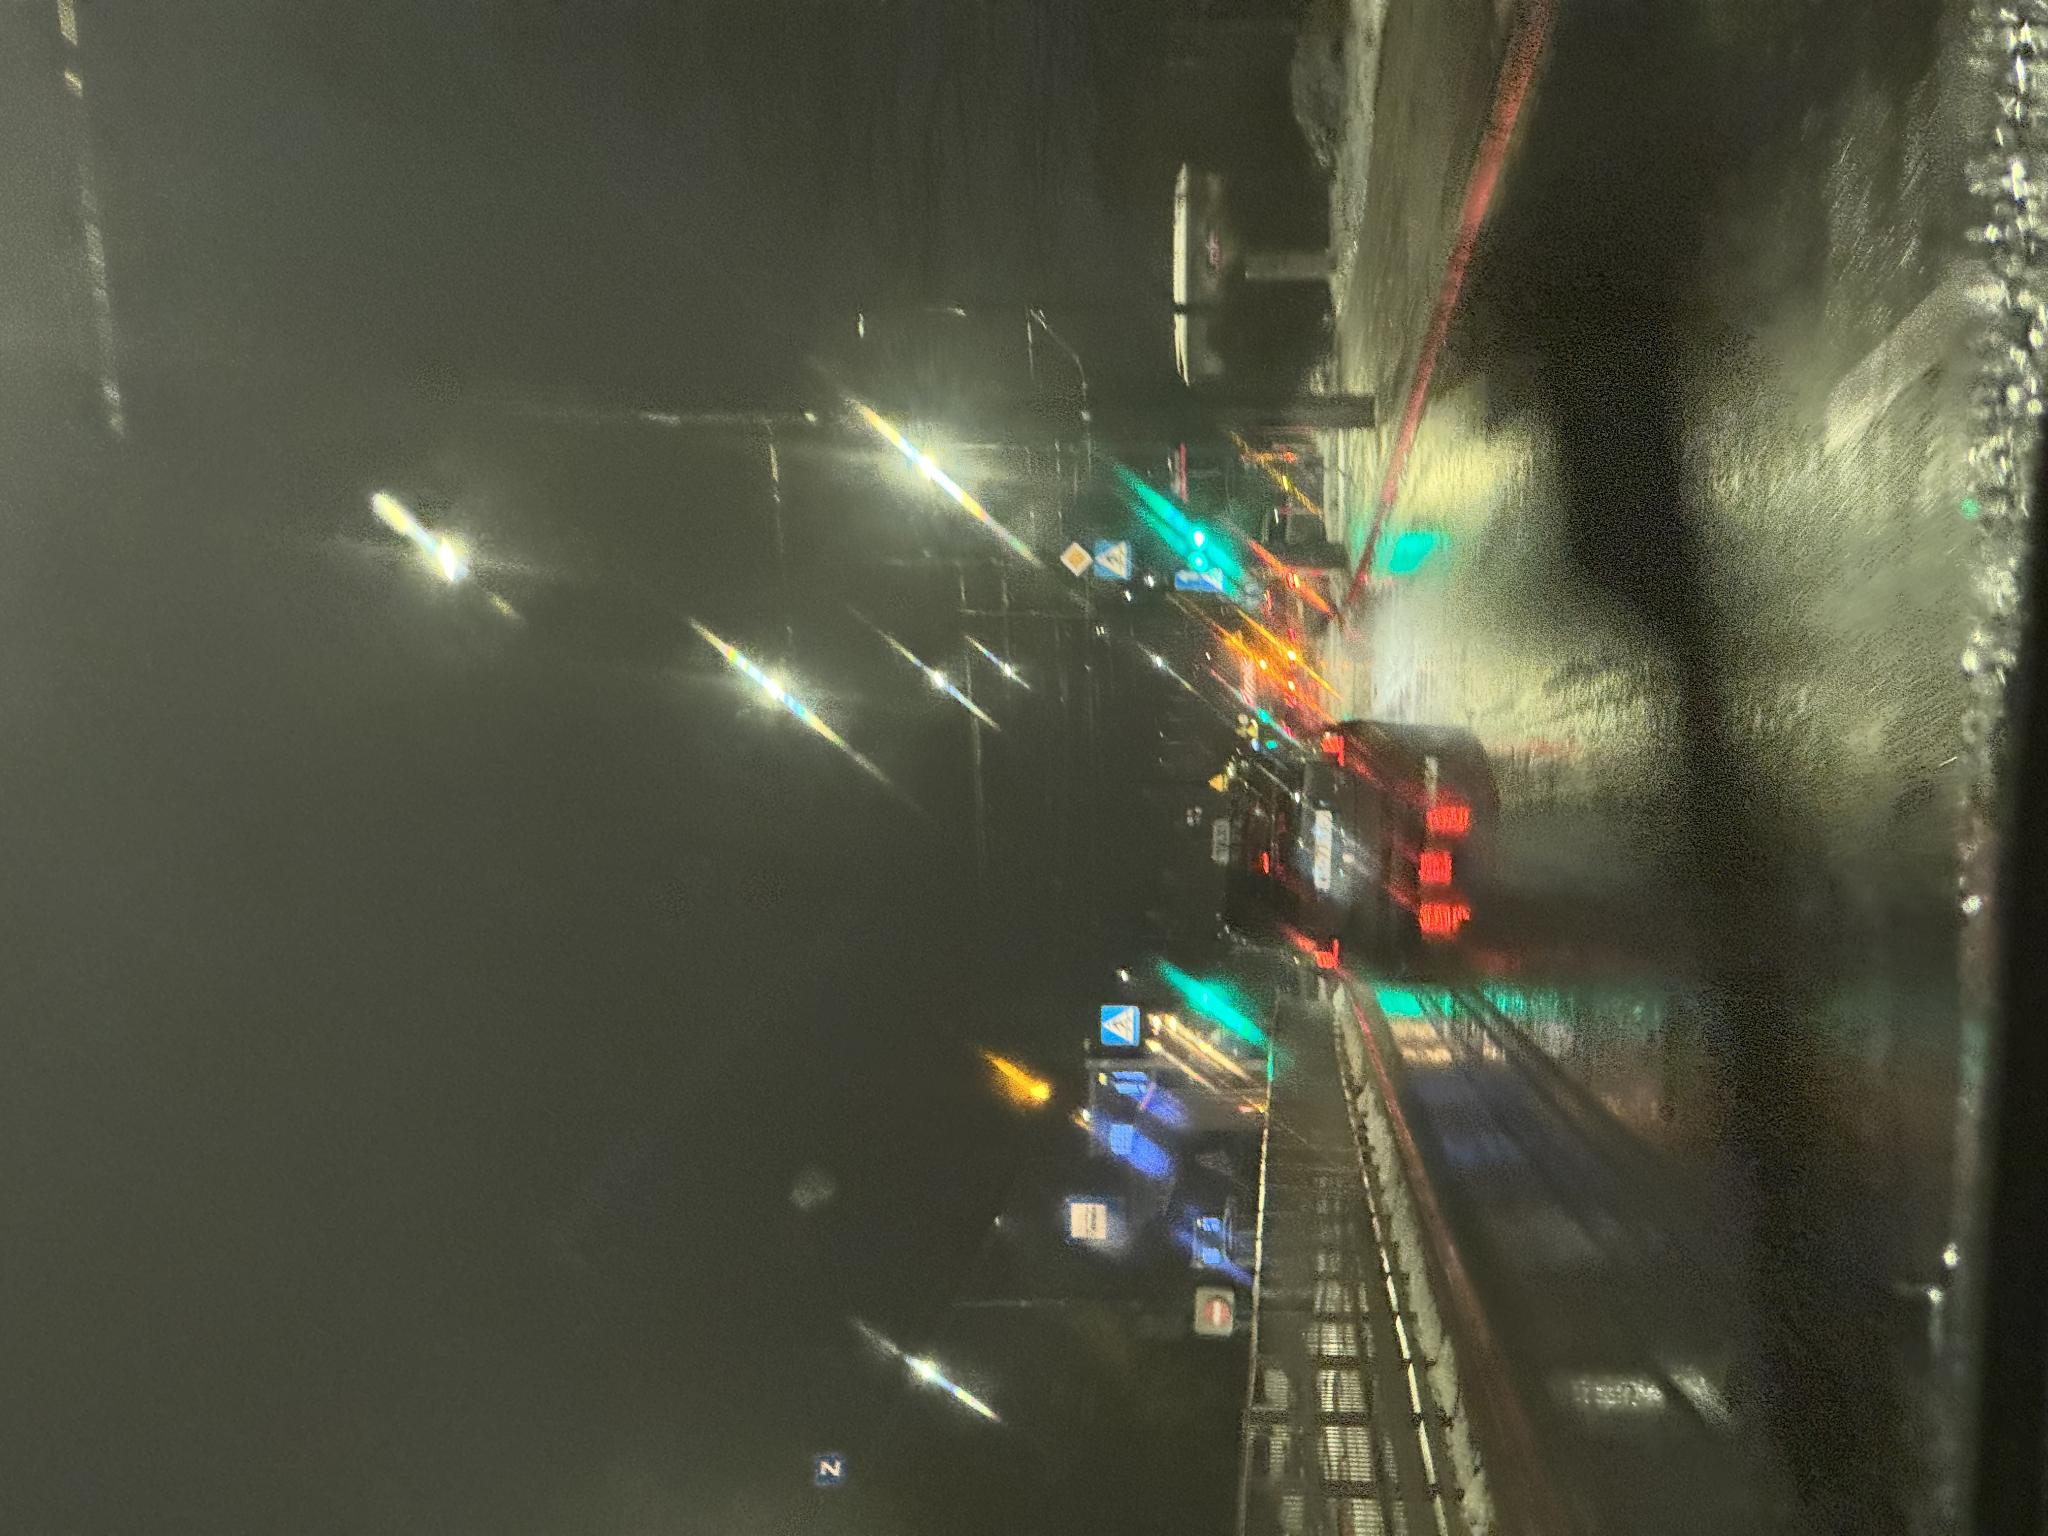information: (490, 1100, 531, 1139), (956, 1092, 995, 1131), (959, 1058, 995, 1092)
prohibitory: (210, 1205, 237, 1231)
